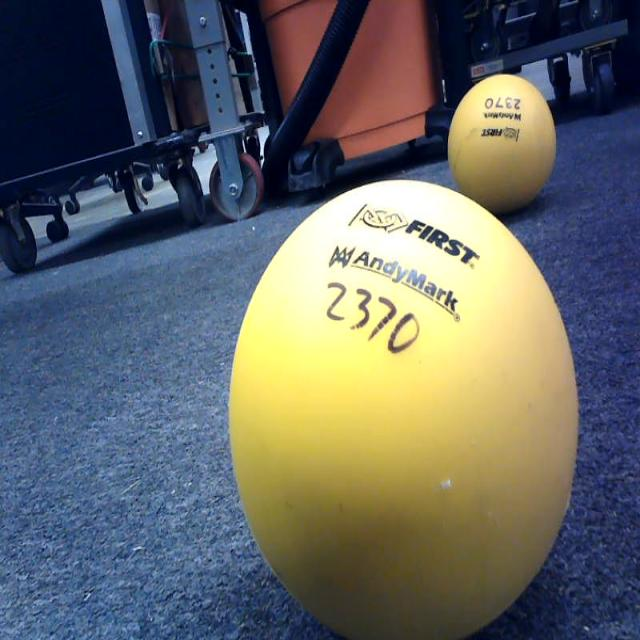Fuel: (228, 177, 580, 640), (448, 74, 556, 218)
